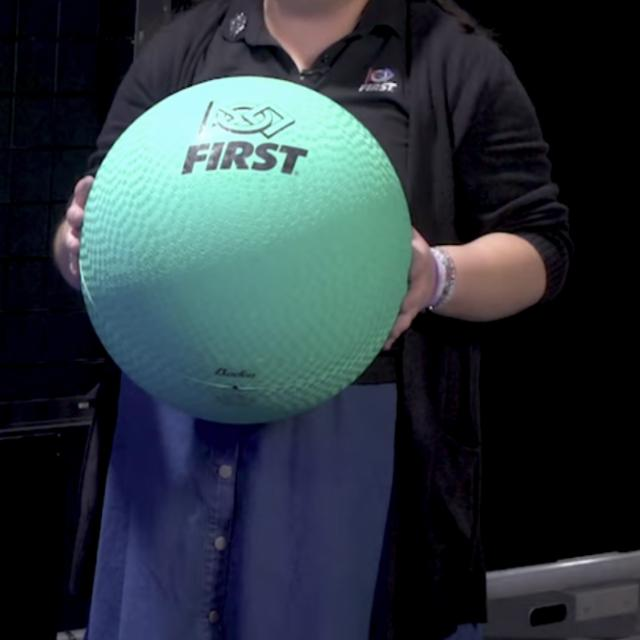Algae: (79, 76, 410, 426)
